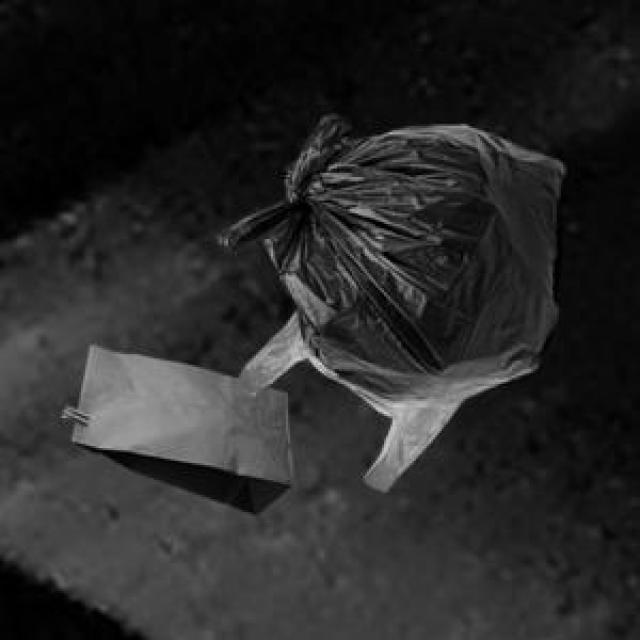miscellaneous trash: (213, 111, 561, 403)
paper: (58, 341, 290, 510)
